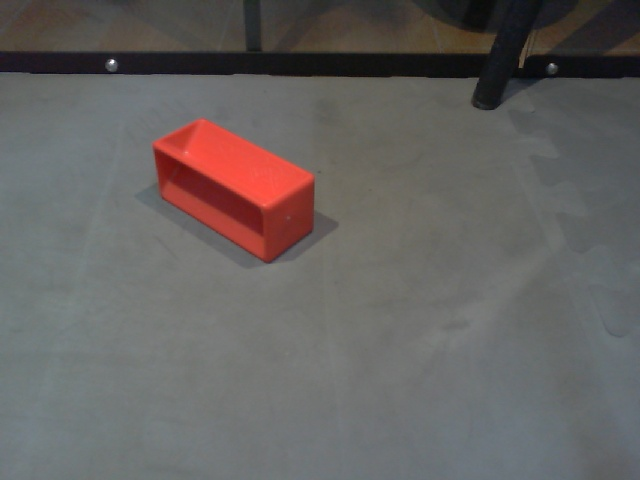RedSample: (153, 116, 317, 265)
